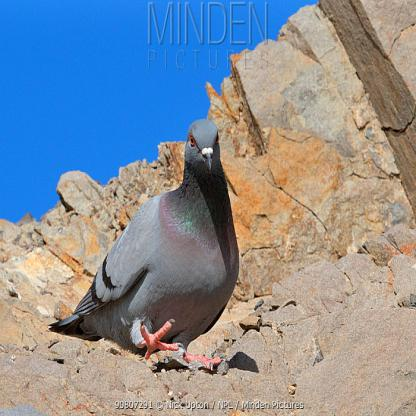Flying Rat: (47, 121, 245, 375)
